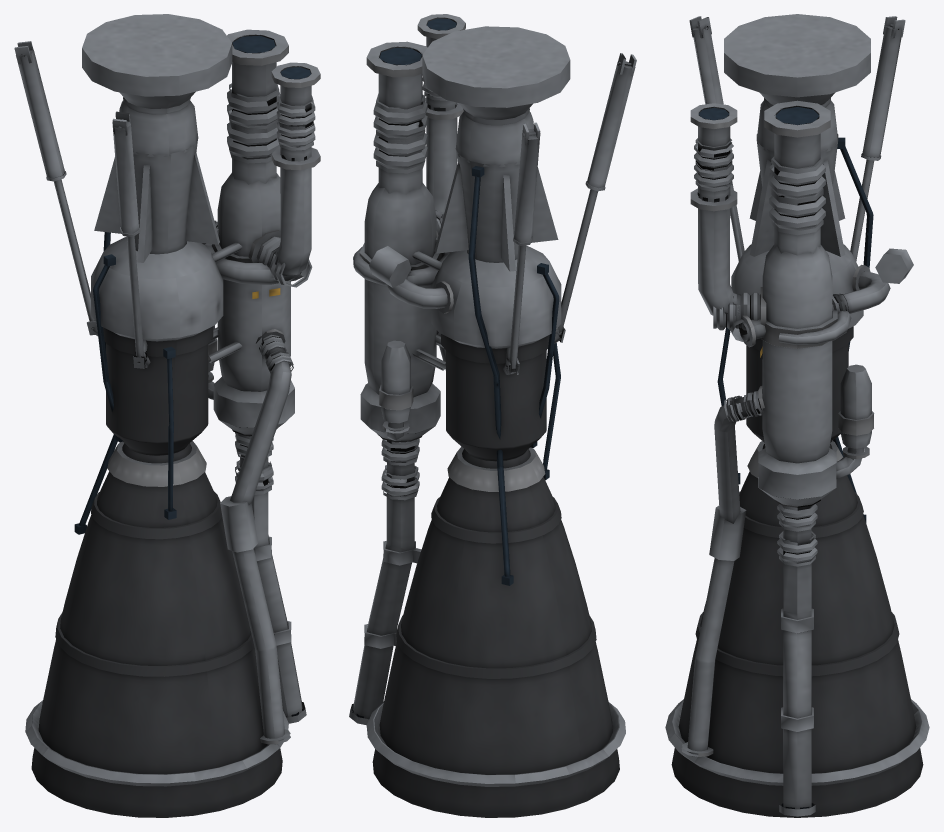
The model's file is eng_kerolox_workhorse.glb.
The picture shows the model from 3 angles, left to right: view 1: azimuth 30°, elevation 25°; view 2: azimuth 150°, elevation 25°; view 3: azimuth 270°, elevation 25°; orthographic projection.
Visible parts, largest first — view 1: eng_kerolox_workhorse_mesh; view 2: eng_kerolox_workhorse_mesh; view 3: eng_kerolox_workhorse_mesh.
Boxes of the visible parts, bbox=[...] form: eng_kerolox_workhorse_mesh: bbox=[14, 14, 320, 817]; eng_kerolox_workhorse_mesh: bbox=[349, 14, 636, 817]; eng_kerolox_workhorse_mesh: bbox=[665, 14, 929, 817].
Bounding box in the file's own units: 1.11 × 2.9 × 0.9657.
Materials: 1 (1 with a texture image).
